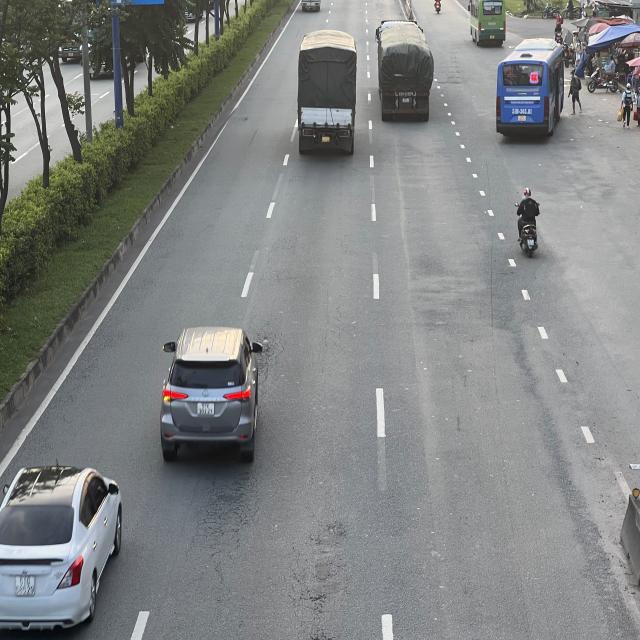car: (3, 466, 127, 635), (161, 326, 266, 459)
coach: (498, 40, 568, 138), (470, 0, 507, 45)
container: (377, 20, 436, 124)
truck: (298, 29, 360, 154)
